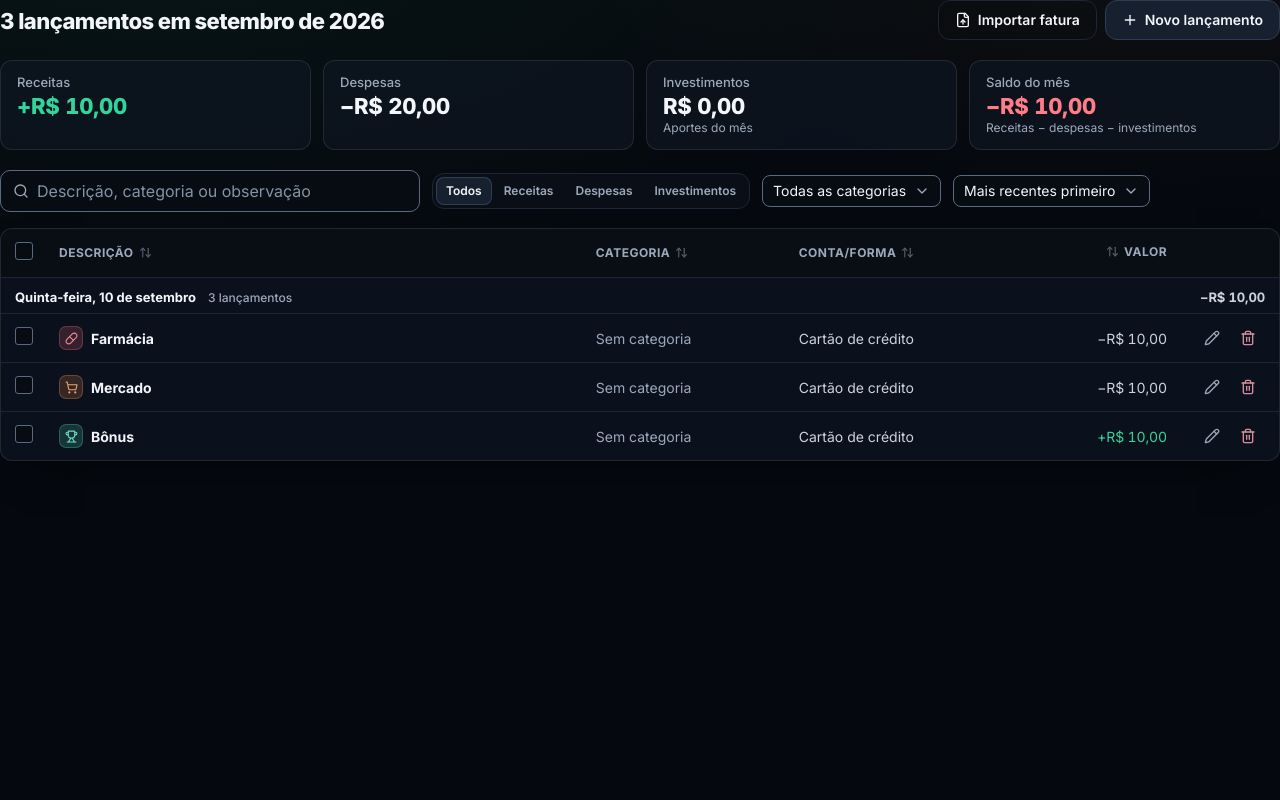
Test case: CR-16 · lançamentos por dia e em lote › categoriza vários de uma vez só com categorias do mesmo tipo, com desfazer
The image size is (1280, 800).
Check: the table is shown, box x1=1 y1=229 x2=1279 y2=460
Click the checkbox named "Selecionar todos" at (24, 251), box x1=15 y1=242 x2=33 y2=260
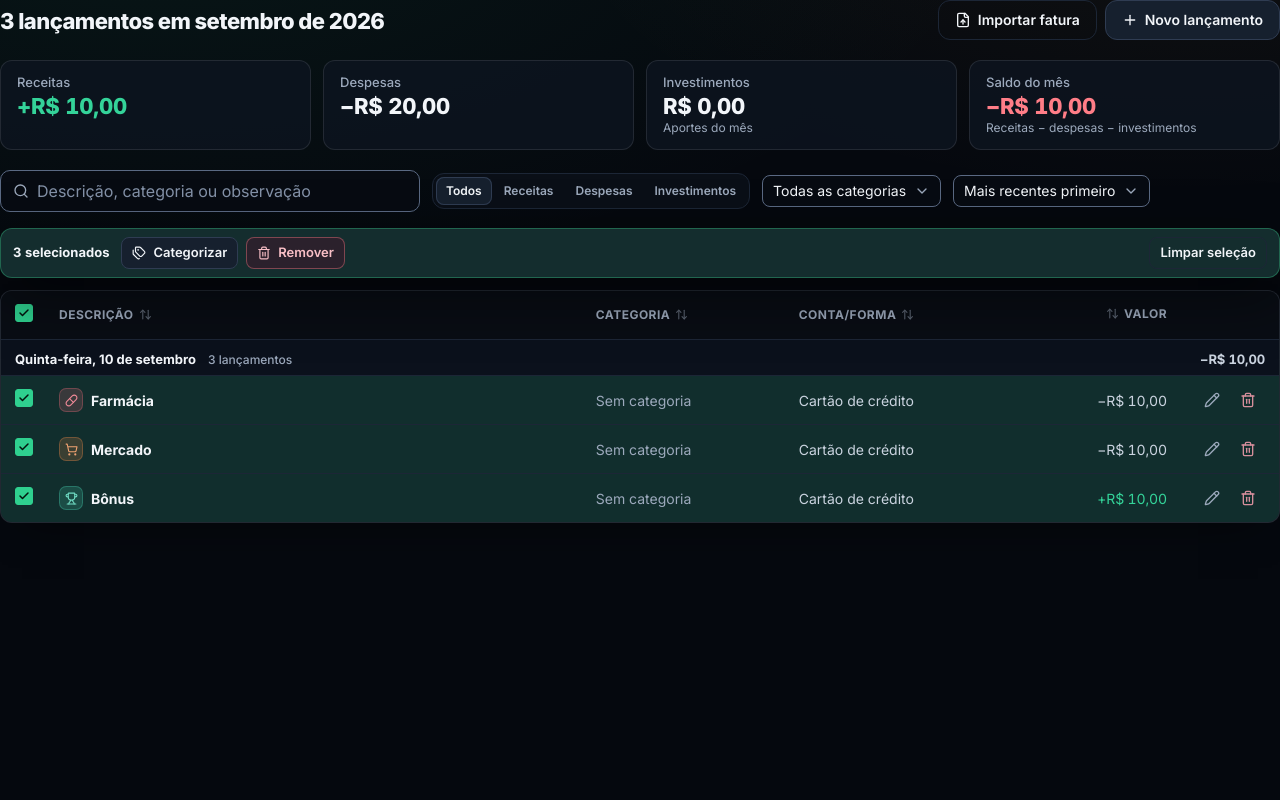
Check: the element named "Ações em lote" shows "3 selecionados", box x1=13 y1=244 x2=109 y2=260
Click the button "Categorizar" at (180, 253), box x1=121 y1=237 x2=238 y2=269
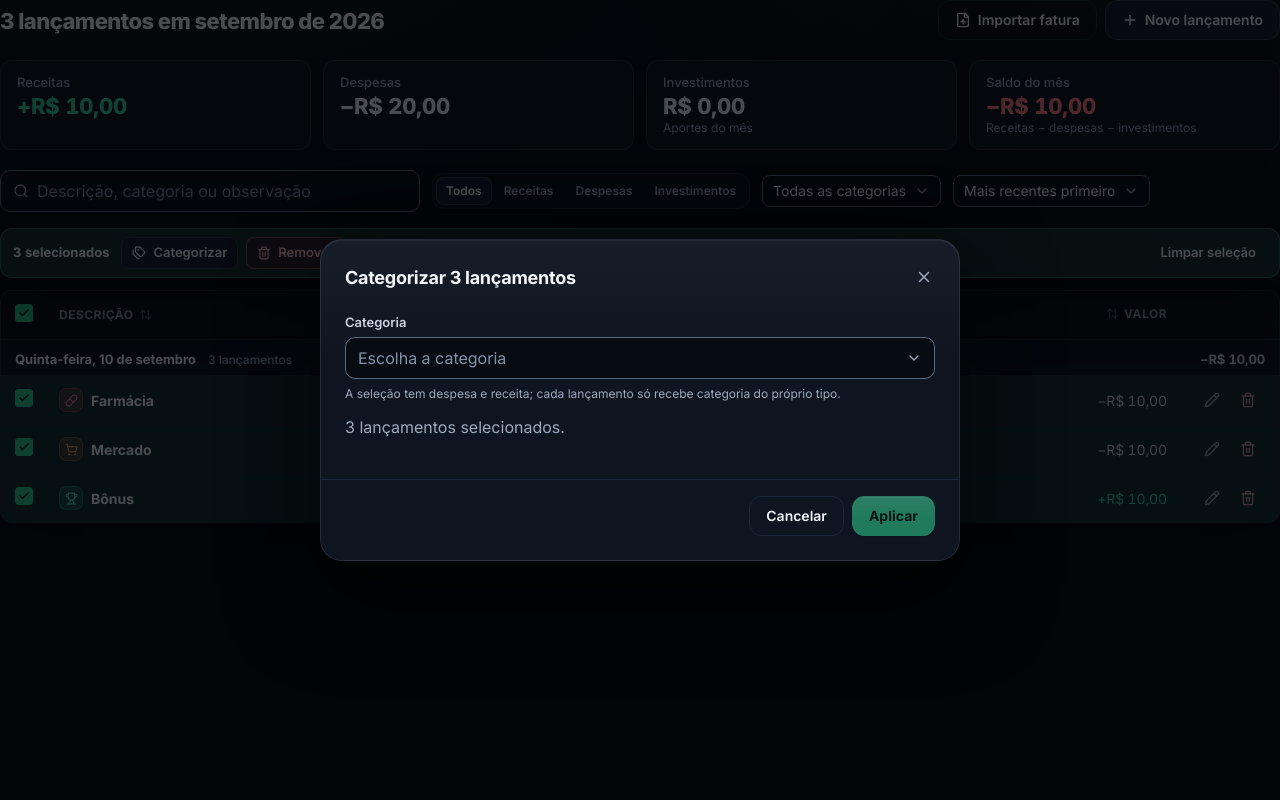
Click the dropdown labelled "categoria" at (432, 358), box x1=345 y1=337 x2=935 y2=379
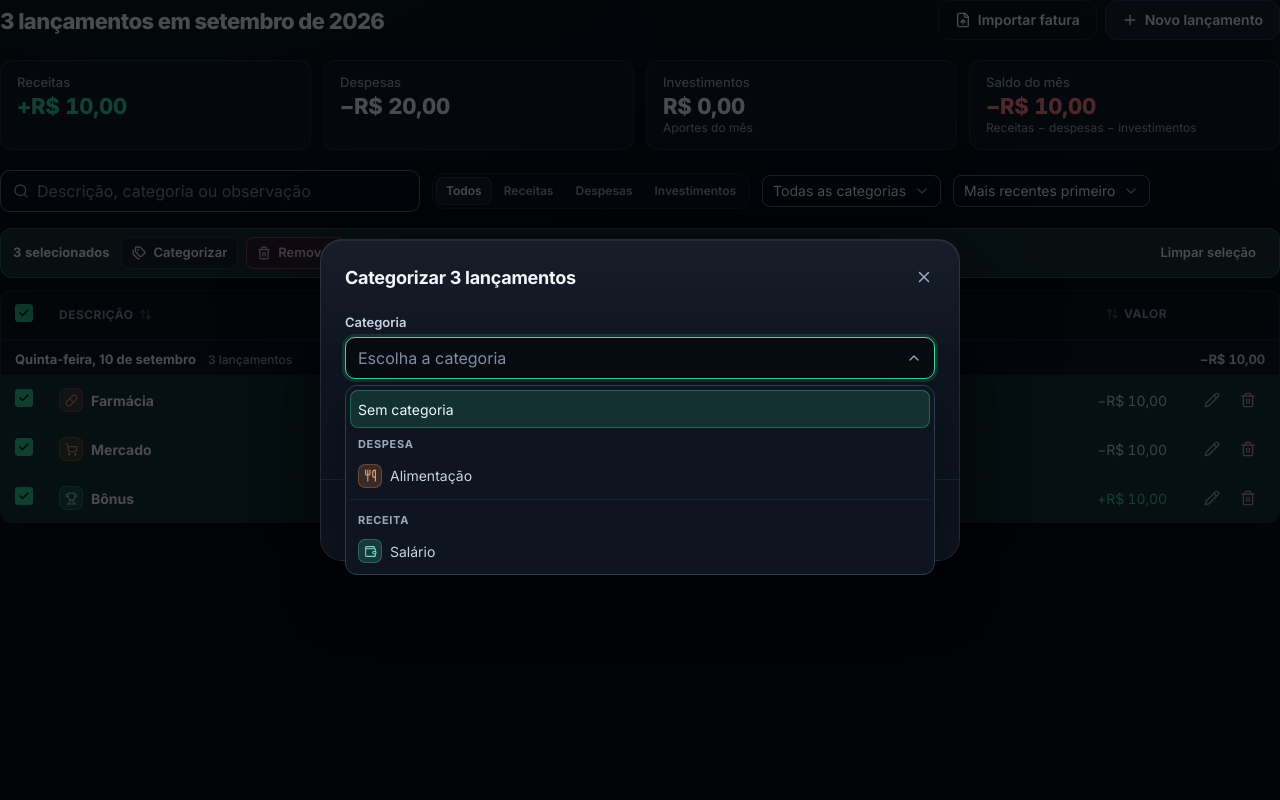
Click the option "Alimentação" at (415, 476), box x1=358 y1=464 x2=472 y2=488
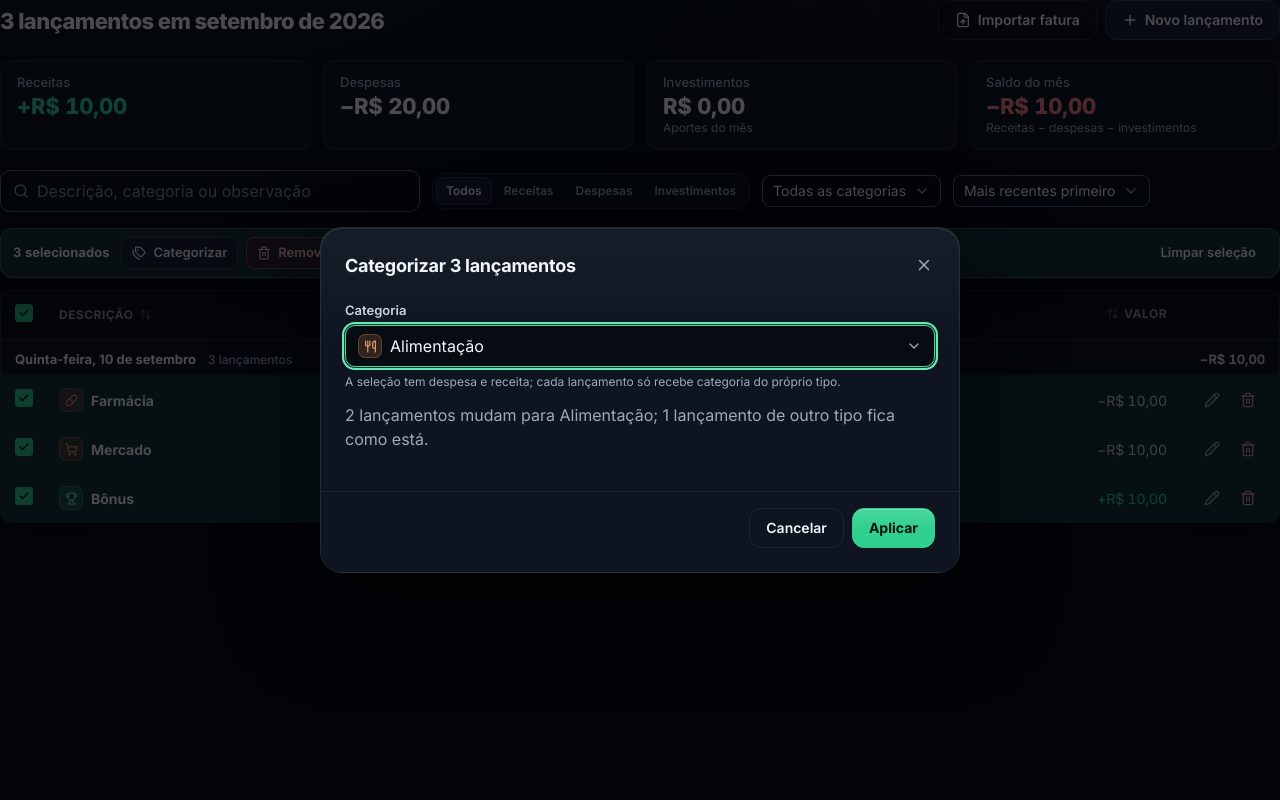
Check: the message reads "2 lançamentos mudam para Alimentação; 1 lançamento de outro tipo fica como está.", box x1=345 y1=405 x2=895 y2=449
Click the button "Aplicar" at (893, 528), box x1=852 y1=508 x2=935 y2=548
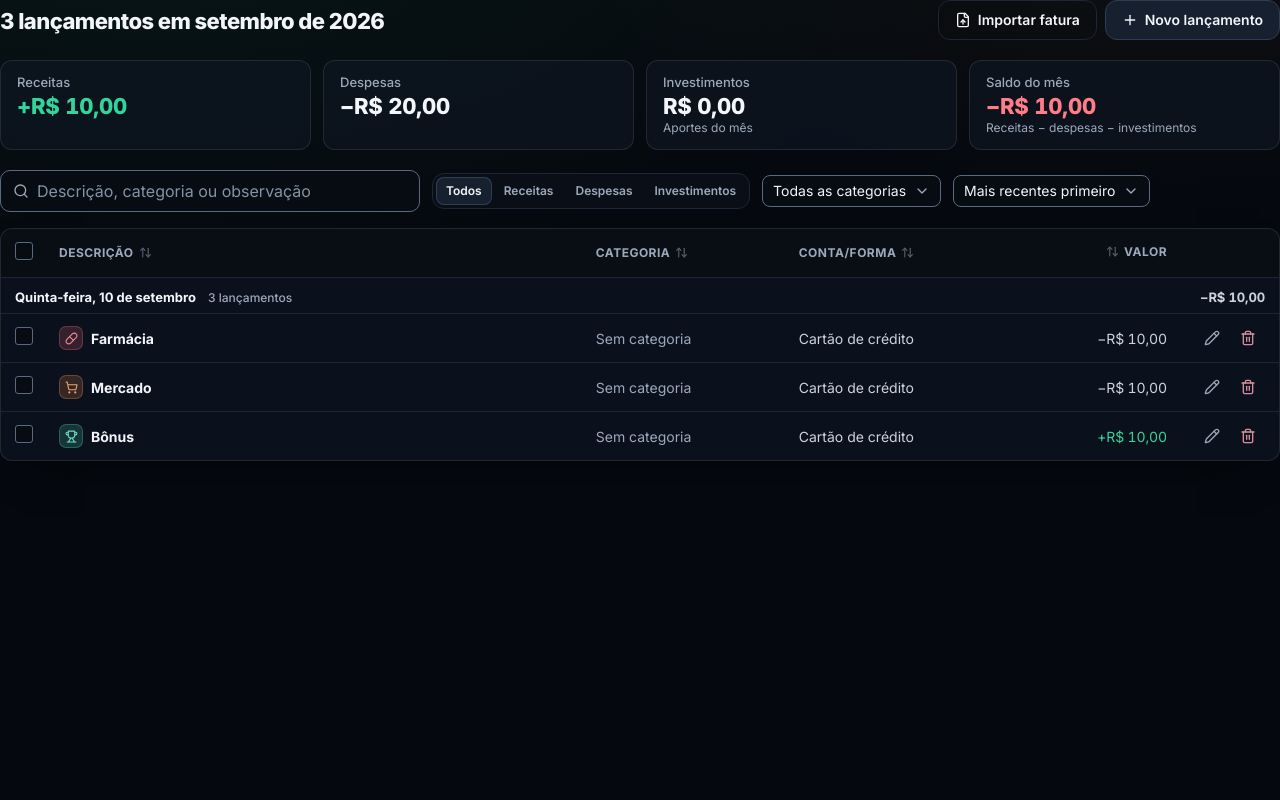
Check: the heading "Categorizar 3 lançamentos" is gone
